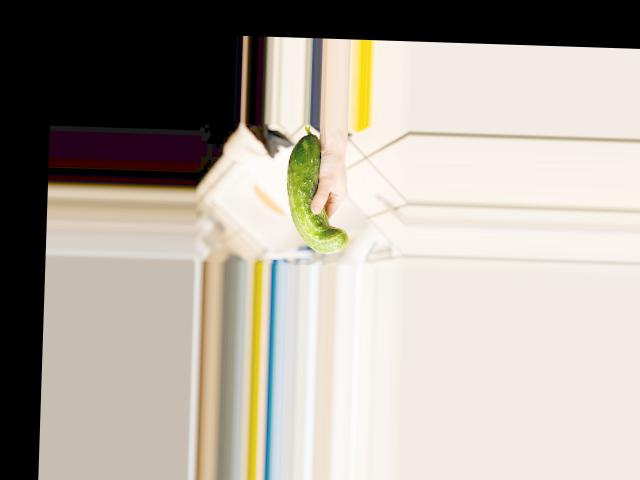cucumber: (283, 124, 351, 254)
